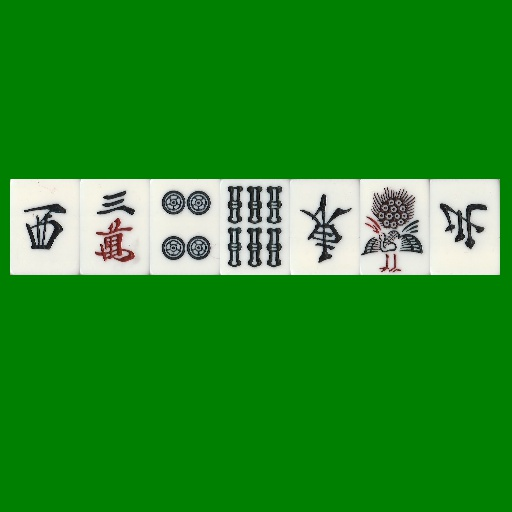1s: (360, 179, 430, 275)
3m: (80, 179, 150, 275)
4p: (150, 179, 220, 275)
6s: (220, 179, 290, 275)
east: (290, 179, 360, 275)
north: (430, 179, 500, 275)
west: (10, 179, 80, 275)
